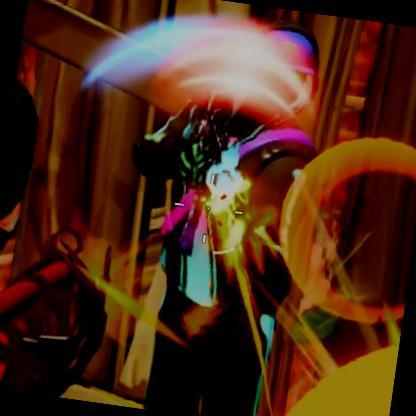person: (172, 39, 326, 416)
